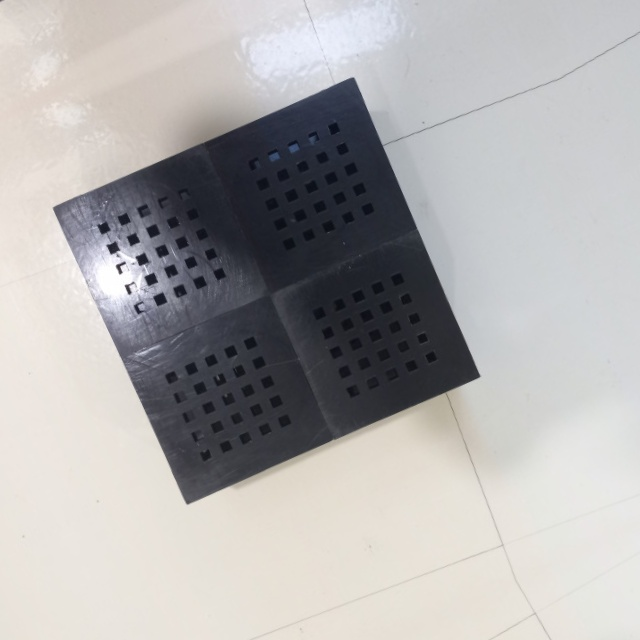pallet: (38, 66, 488, 522)
